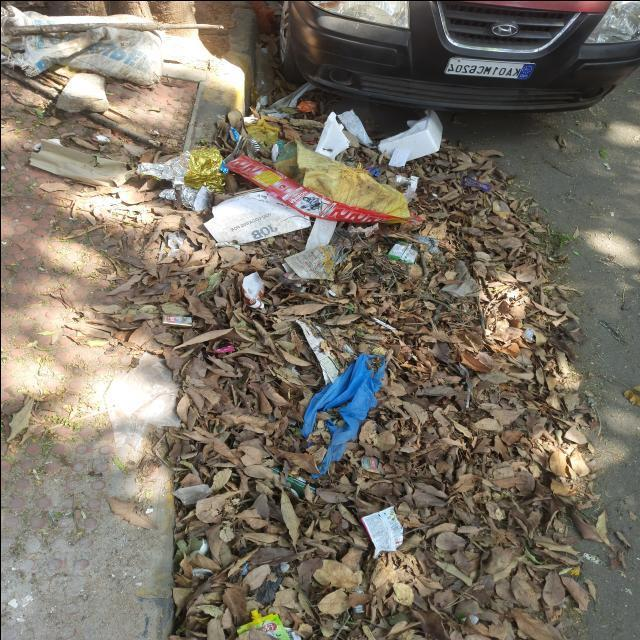Cig_pack: (162, 312, 192, 326), (360, 455, 380, 472)
Disposable: (247, 136, 258, 151)
Garbage: (28, 38, 612, 640), (12, 404, 38, 436)
Glass_bottle: (283, 475, 307, 498), (270, 465, 282, 474), (310, 486, 315, 491)
Plastic: (273, 140, 410, 216), (190, 568, 212, 578), (458, 362, 468, 376), (465, 386, 470, 408)
Plastic_Bag: (225, 155, 420, 222), (273, 140, 408, 216), (300, 352, 383, 474), (255, 565, 280, 602), (245, 118, 278, 145), (242, 271, 263, 308), (172, 484, 210, 504), (372, 316, 395, 329), (402, 186, 417, 202), (228, 125, 240, 141), (238, 546, 252, 556), (367, 166, 380, 176)
Plastic_Container: (197, 536, 208, 554)
Plastic_wraper: (135, 148, 223, 210), (360, 505, 402, 558), (237, 609, 290, 640), (387, 241, 417, 262), (212, 344, 233, 352), (247, 136, 258, 151), (522, 328, 533, 341), (240, 562, 248, 575)
Thermocol: (377, 109, 442, 166), (313, 111, 348, 158), (395, 175, 418, 189)
